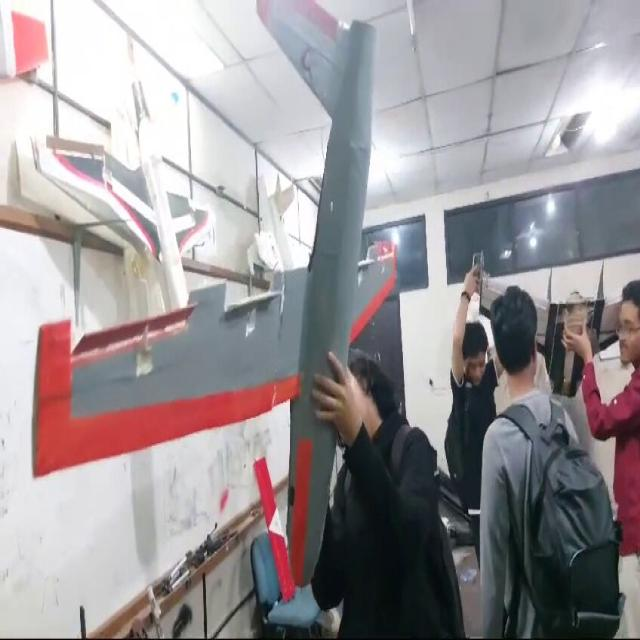plane: (30, 2, 392, 592)
